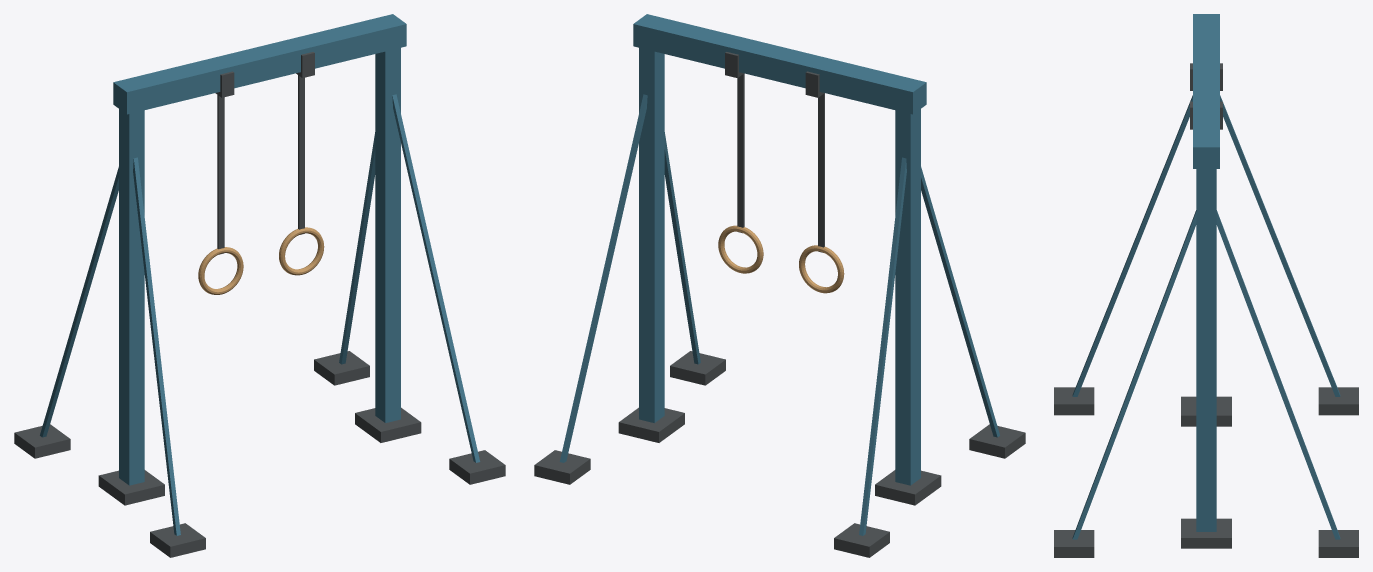
The picture shows the model from 3 angles, left to right: view 1: azimuth 30°, elevation 25°; view 2: azimuth 150°, elevation 25°; view 3: azimuth 270°, elevation 25°; orthographic projection. The views are drawn at different scales.
Parts seen in each view (by area): view 1: WholeHighTransversePortalBeam, RightWholeHighPortalColumn, LeftWholeHighPortalColumn, LeftFrontWholeOutwardGuyStay, RightFrontWholeOutwardGuyStay, LeftBackWholeOutwardGuyStay, RightBackWholeOutwardGuyStay, LeftWholeColumnGroundShoe, RightWholeColumnGroundShoe, RightFrontWholeStayGroundShoe, LeftFrontWholeStayGroundShoe, LeftBackWholeStayGroundShoe (+5 smaller); view 2: WholeHighTransversePortalBeam, RightWholeHighPortalColumn, LeftWholeHighPortalColumn, LeftBackWholeOutwardGuyStay, RightBackWholeOutwardGuyStay, LeftFrontWholeOutwardGuyStay, RightFrontWholeOutwardGuyStay, LeftWholeColumnGroundShoe, RightWholeColumnGroundShoe, RightBackWholeStayGroundShoe, LeftBackWholeStayGroundShoe, LeftFrontWholeStayGroundShoe (+5 smaller); view 3: RightWholeHighPortalColumn, WholeHighTransversePortalBeam, RightFrontWholeOutwardGuyStay, RightBackWholeOutwardGuyStay, LeftFrontWholeOutwardGuyStay, LeftBackWholeOutwardGuyStay, RightWholeColumnGroundShoe, LeftFrontWholeStayGroundShoe, LeftBackWholeStayGroundShoe, RightFrontWholeStayGroundShoe, RightBackWholeStayGroundShoe, LeftWholeColumnGroundShoe.
Part boxes in pixels (left/top/right/bottom): WholeHighTransversePortalBeam: left=113, top=14, right=406, bottom=114; RightWholeHighPortalColumn: left=375, top=48, right=400, bottom=422; LeftWholeHighPortalColumn: left=119, top=109, right=144, bottom=485; LeftFrontWholeOutwardGuyStay: left=133, top=157, right=180, bottom=535; RightFrontWholeOutwardGuyStay: left=392, top=94, right=480, bottom=462; LeftBackWholeOutwardGuyStay: left=40, top=167, right=118, bottom=437; RightBackWholeOutwardGuyStay: left=339, top=132, right=375, bottom=364; LeftWholeColumnGroundShoe: left=98, top=470, right=164, bottom=505; RightWholeColumnGroundShoe: left=355, top=407, right=421, bottom=442; RightFrontWholeStayGroundShoe: left=449, top=450, right=505, bottom=484; LeftFrontWholeStayGroundShoe: left=150, top=523, right=205, bottom=557; LeftBackWholeStayGroundShoe: left=14, top=424, right=70, bottom=458; WholeHighTransversePortalBeam: left=633, top=14, right=926, bottom=114; RightWholeHighPortalColumn: left=639, top=48, right=664, bottom=422; LeftWholeHighPortalColumn: left=895, top=109, right=920, bottom=485; LeftBackWholeOutwardGuyStay: left=859, top=157, right=906, bottom=535; RightBackWholeOutwardGuyStay: left=559, top=94, right=647, bottom=462; LeftFrontWholeOutwardGuyStay: left=921, top=167, right=999, bottom=437; RightFrontWholeOutwardGuyStay: left=664, top=132, right=700, bottom=364; LeftWholeColumnGroundShoe: left=875, top=470, right=941, bottom=505; RightWholeColumnGroundShoe: left=618, top=407, right=684, bottom=442; RightBackWholeStayGroundShoe: left=534, top=450, right=590, bottom=484; LeftBackWholeStayGroundShoe: left=834, top=523, right=889, bottom=557; LeftFrontWholeStayGroundShoe: left=969, top=424, right=1025, bottom=458; RightWholeHighPortalColumn: left=1196, top=169, right=1216, bottom=531; WholeHighTransversePortalBeam: left=1193, top=14, right=1219, bottom=168; RightFrontWholeOutwardGuyStay: left=1072, top=210, right=1196, bottom=539; RightBackWholeOutwardGuyStay: left=1216, top=210, right=1340, bottom=539; LeftFrontWholeOutwardGuyStay: left=1072, top=95, right=1192, bottom=396; LeftBackWholeOutwardGuyStay: left=1220, top=95, right=1340, bottom=396; RightWholeColumnGroundShoe: left=1181, top=518, right=1231, bottom=548; LeftFrontWholeStayGroundShoe: left=1054, top=387, right=1094, bottom=415; LeftBackWholeStayGroundShoe: left=1318, top=387, right=1358, bottom=415; RightFrontWholeStayGroundShoe: left=1054, top=530, right=1094, bottom=557; RightBackWholeStayGroundShoe: left=1318, top=530, right=1358, bottom=557; LeftWholeColumnGroundShoe: left=1181, top=396, right=1231, bottom=426.
Size of the model in its own units: 2.83 by 3.28 by 2.28.
